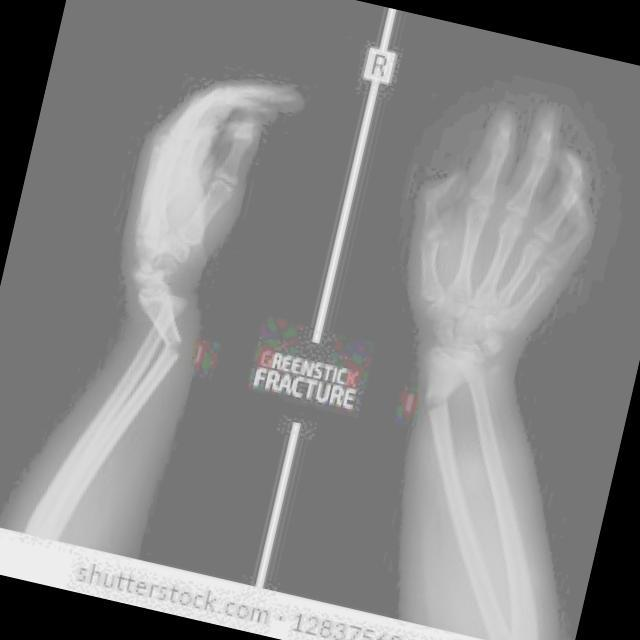GreenStick Fracture: (417, 383, 448, 422), (159, 330, 188, 365)
